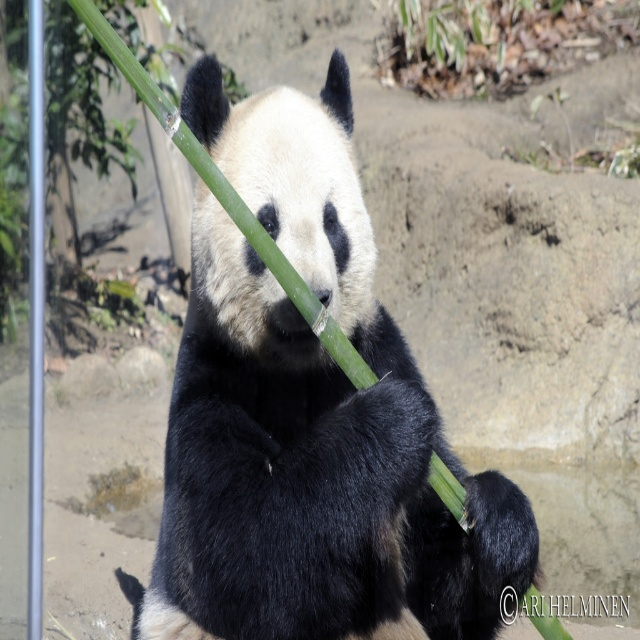Panda: (127, 50, 542, 639)
